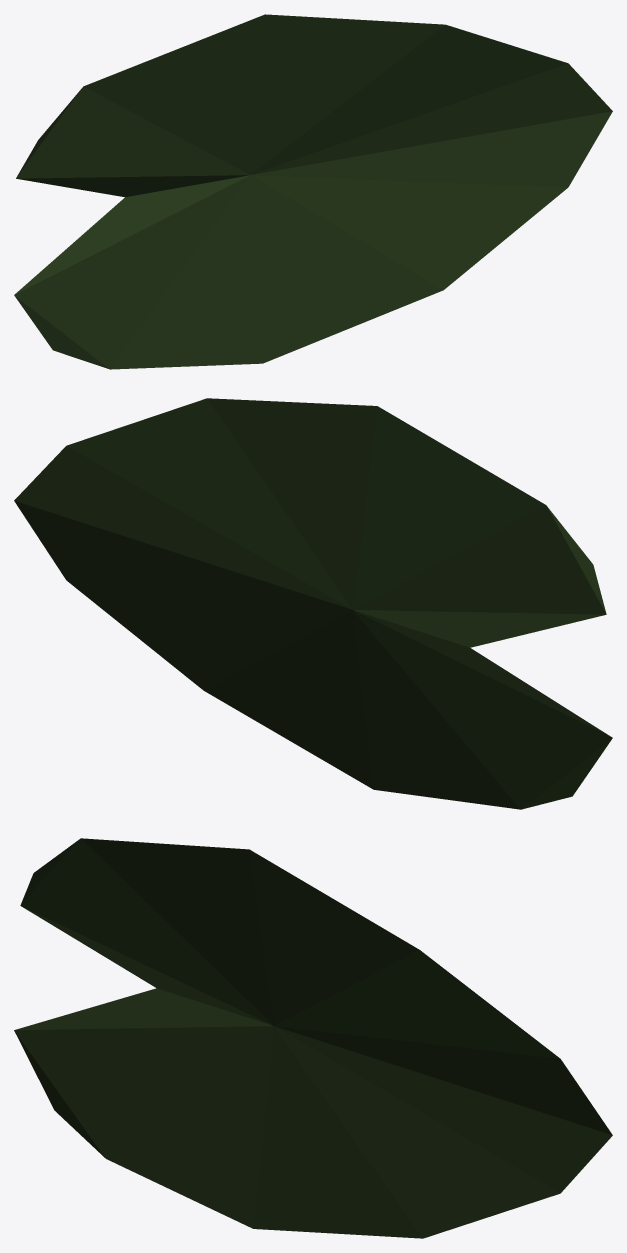
Rendered from BindweedLeaf.obj.
3 renders of one model, top to bottom at view 1: azimuth 30°, elevation 25°; view 2: azimuth 150°, elevation 25°; view 3: azimuth 330°, elevation 25°, orthographic. The views are drawn at different scales.
Parts seen in each view (by area): view 1: leaf; view 2: leaf; view 3: leaf.
Boxes of the visible parts, left/top/right/bottom form: leaf: left=14, top=14, right=612, bottom=369; leaf: left=14, top=398, right=612, bottom=809; leaf: left=14, top=838, right=612, bottom=1238.
Size of the model in its own units: 0.846 by 0.4939 by 0.0994.
